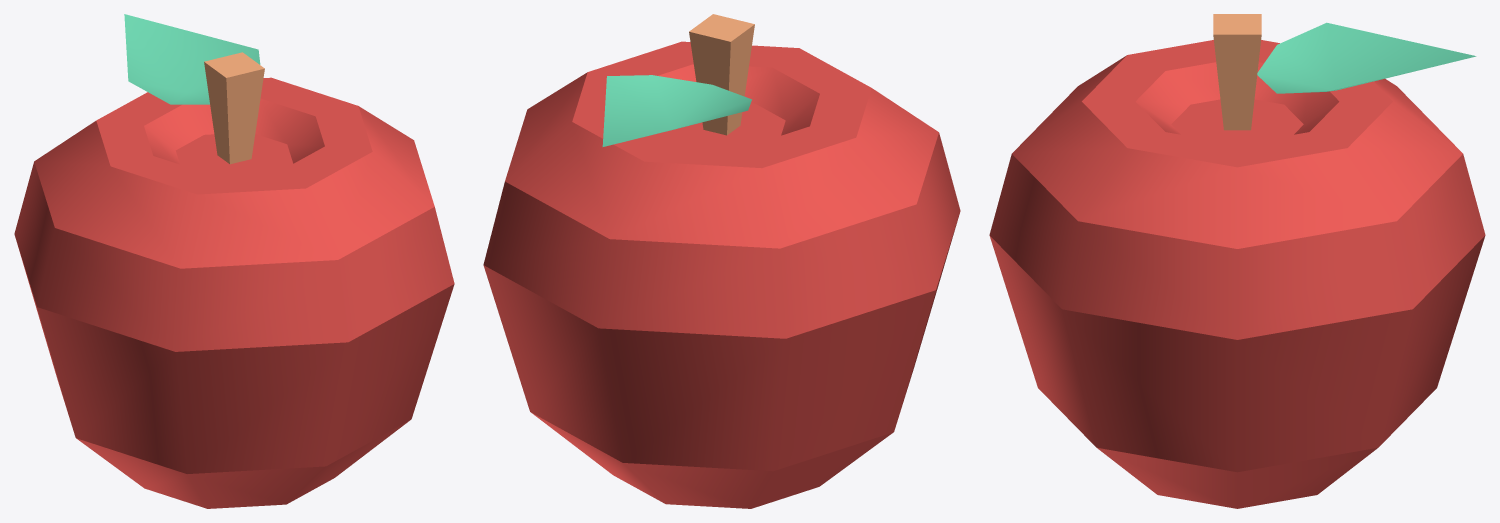
The model's file is Apple.glb.
3 renders of one model, left to right at view 1: azimuth 30°, elevation 25°; view 2: azimuth 150°, elevation 25°; view 3: azimuth 270°, elevation 25°, orthographic. The views are drawn at different scales.
Parts seen in each view (by area): view 1: apple; view 2: apple; view 3: apple.
Part boxes in pixels (left/top/right/bottom): apple: left=14, top=14, right=454, bottom=508; apple: left=483, top=14, right=960, bottom=508; apple: left=989, top=14, right=1485, bottom=508.
Size of the model in its own units: 0.1963 by 0.1908 by 0.1963.
